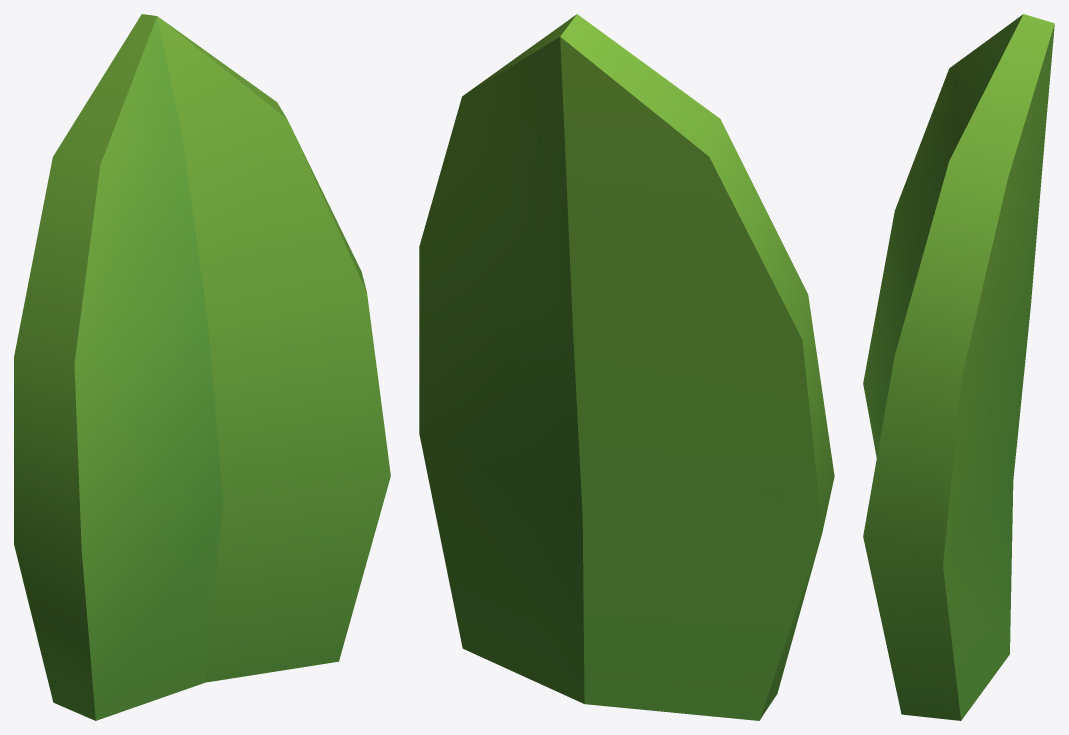
The model's file is kk-grass.glb.
The picture shows the model from 3 angles, left to right: view 1: azimuth 30°, elevation 25°; view 2: azimuth 150°, elevation 25°; view 3: azimuth 270°, elevation 25°; orthographic projection. The views are drawn at different scales.
Visible parts, largest first — view 1: Grass_1_A_Color1; view 2: Grass_1_A_Color1; view 3: Grass_1_A_Color1.
Boxes of the visible parts, bbox=[...] form: Grass_1_A_Color1: bbox=[14, 14, 390, 720]; Grass_1_A_Color1: bbox=[419, 14, 834, 720]; Grass_1_A_Color1: bbox=[863, 14, 1054, 720].
Size of the model in its own units: 0.3393 by 0.5593 by 0.1518.
Materials: 1 (1 with a texture image).
